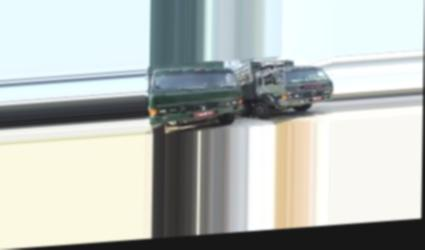License_Plate: (194, 109, 215, 118), (312, 95, 324, 103)
